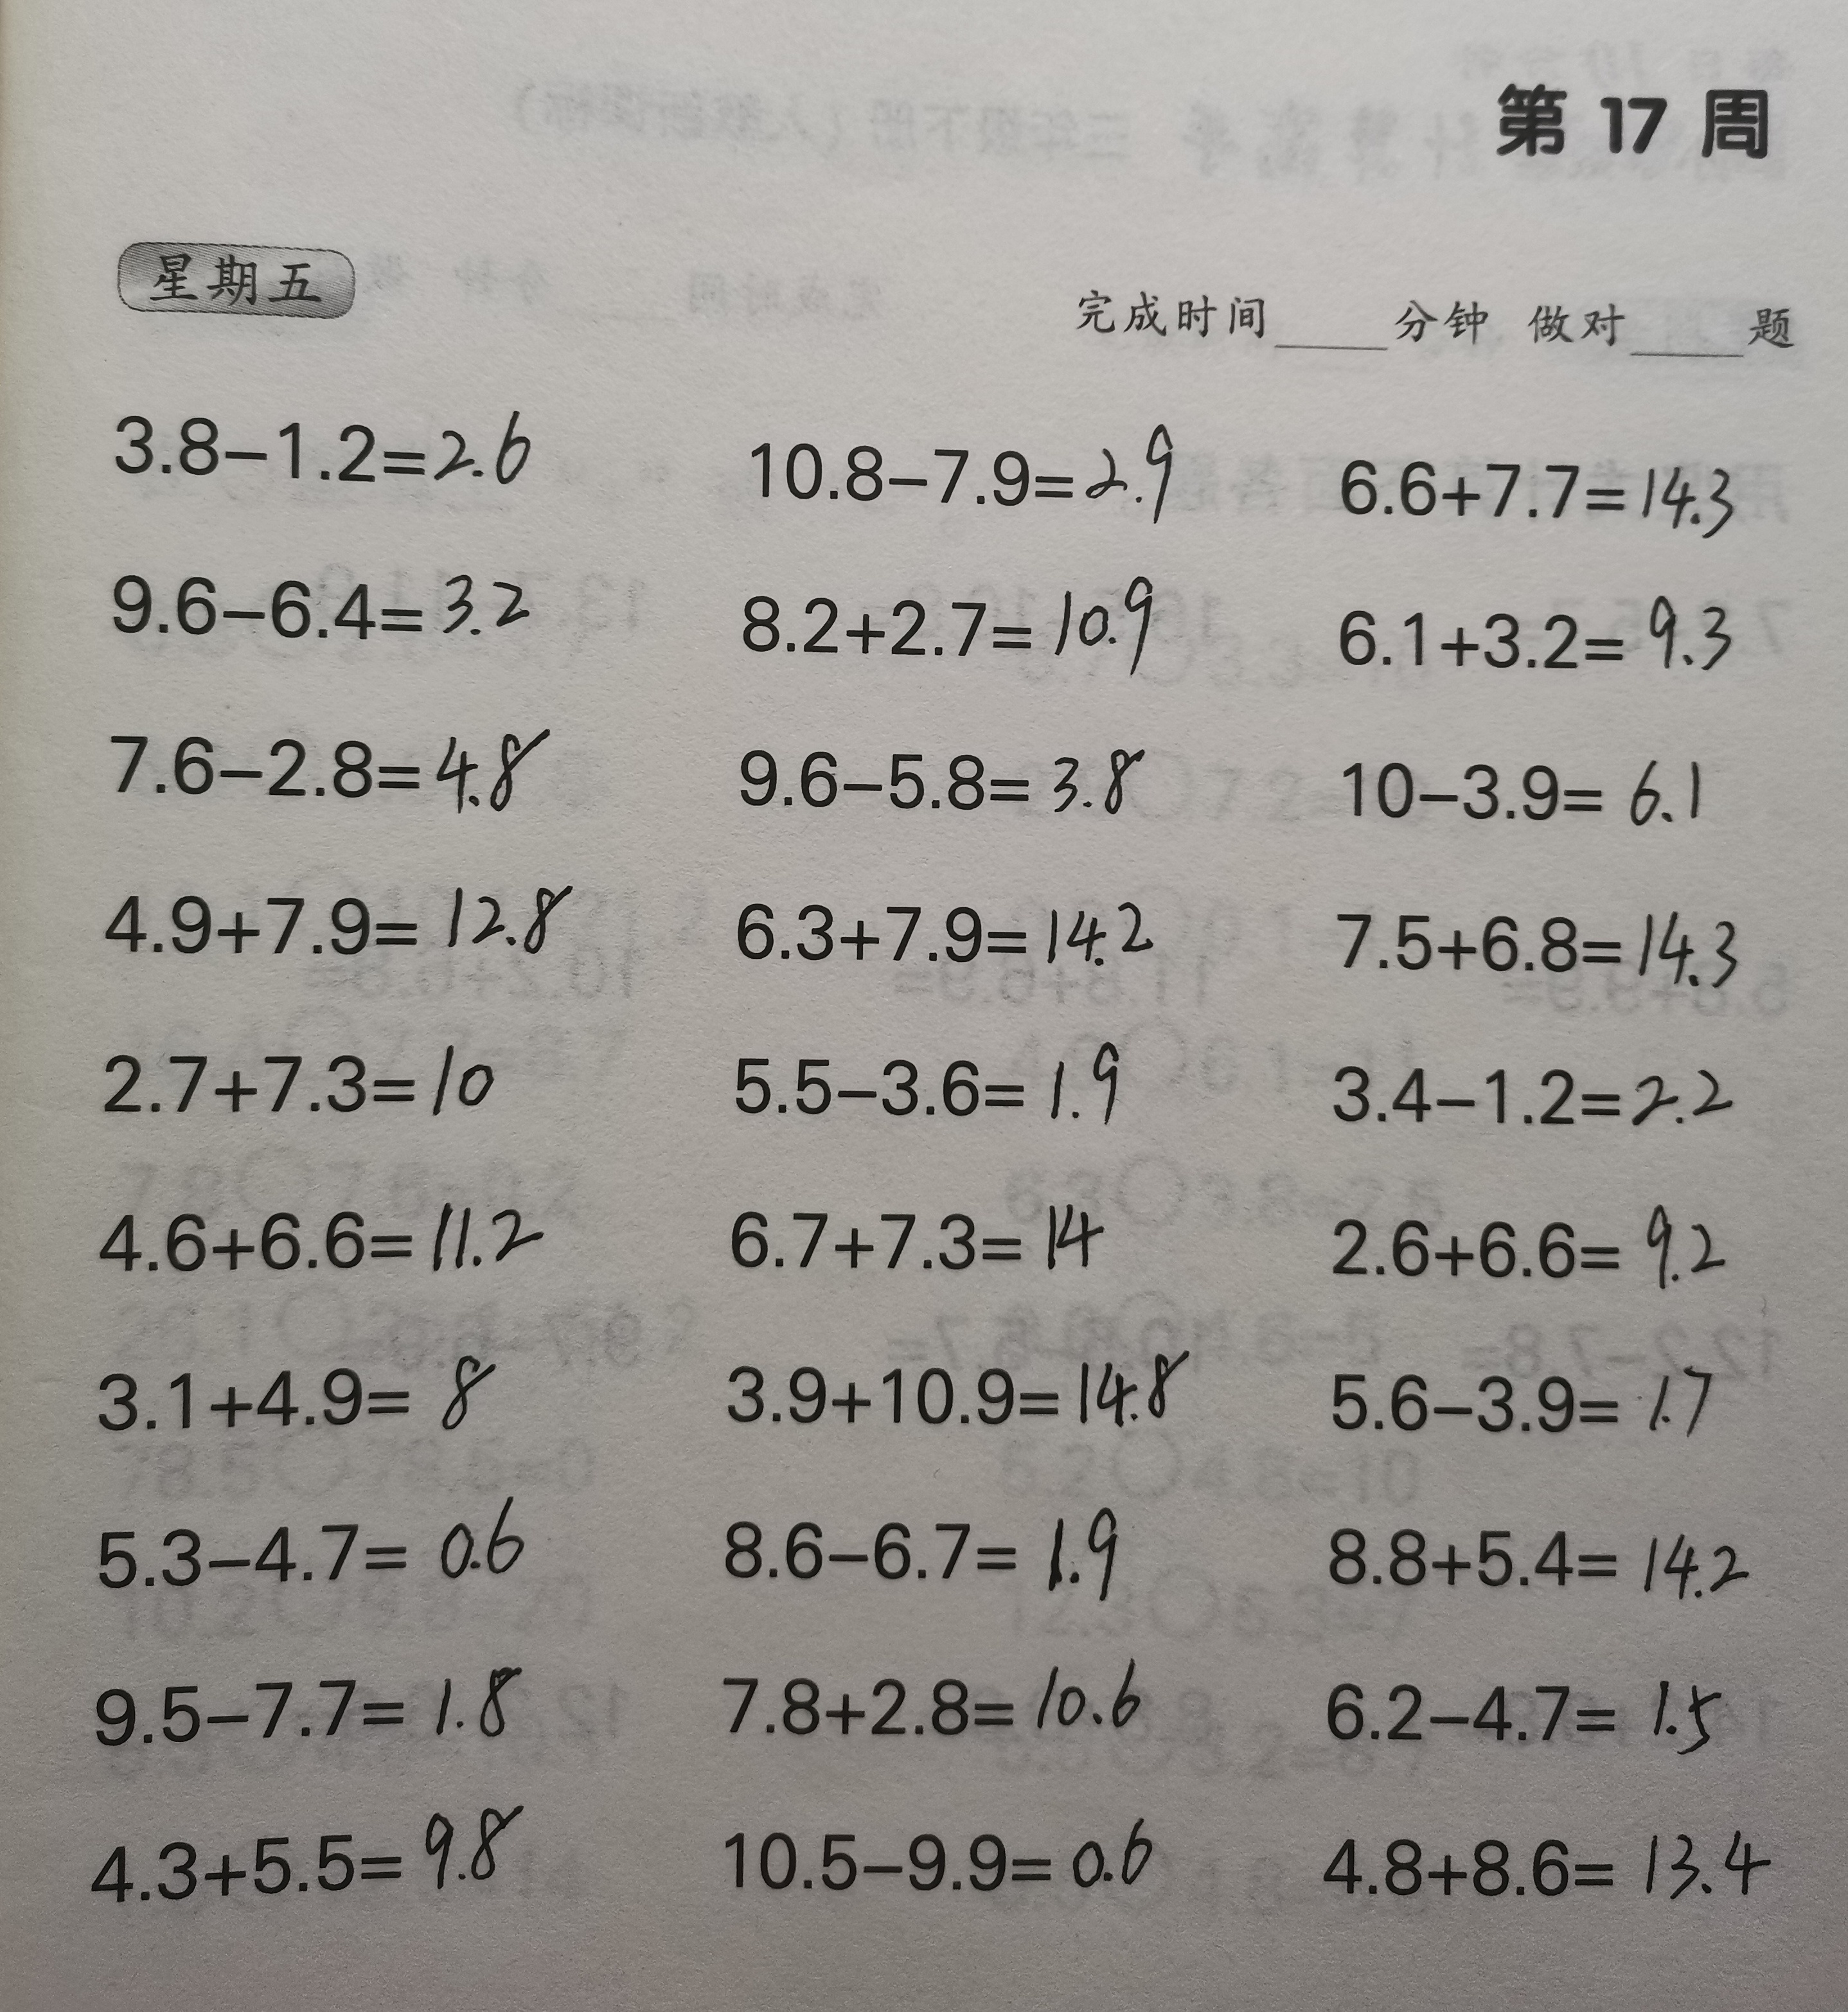equation: (58, 1781, 562, 1917), (732, 396, 1217, 529), (68, 1477, 564, 1605), (68, 1625, 547, 1756), (718, 1327, 1210, 1453), (1312, 1328, 1753, 1467), (709, 1477, 1137, 1619), (95, 363, 543, 498), (79, 701, 564, 825), (60, 1164, 566, 1283), (88, 1320, 522, 1458), (702, 1644, 1184, 1768), (88, 855, 589, 974), (1308, 1486, 1773, 1614), (1298, 1798, 1792, 1917), (699, 1786, 1193, 1903), (725, 554, 1177, 680), (723, 866, 1175, 992), (1319, 419, 1764, 547), (88, 1010, 540, 1134), (1315, 1176, 1771, 1299), (723, 1160, 1137, 1293), (727, 719, 1167, 841), (723, 1008, 1153, 1132), (1301, 1654, 1764, 1768), (1319, 880, 1755, 999), (96, 536, 538, 654), (1324, 578, 1767, 694), (1312, 1032, 1759, 1144), (1319, 726, 1734, 832)
